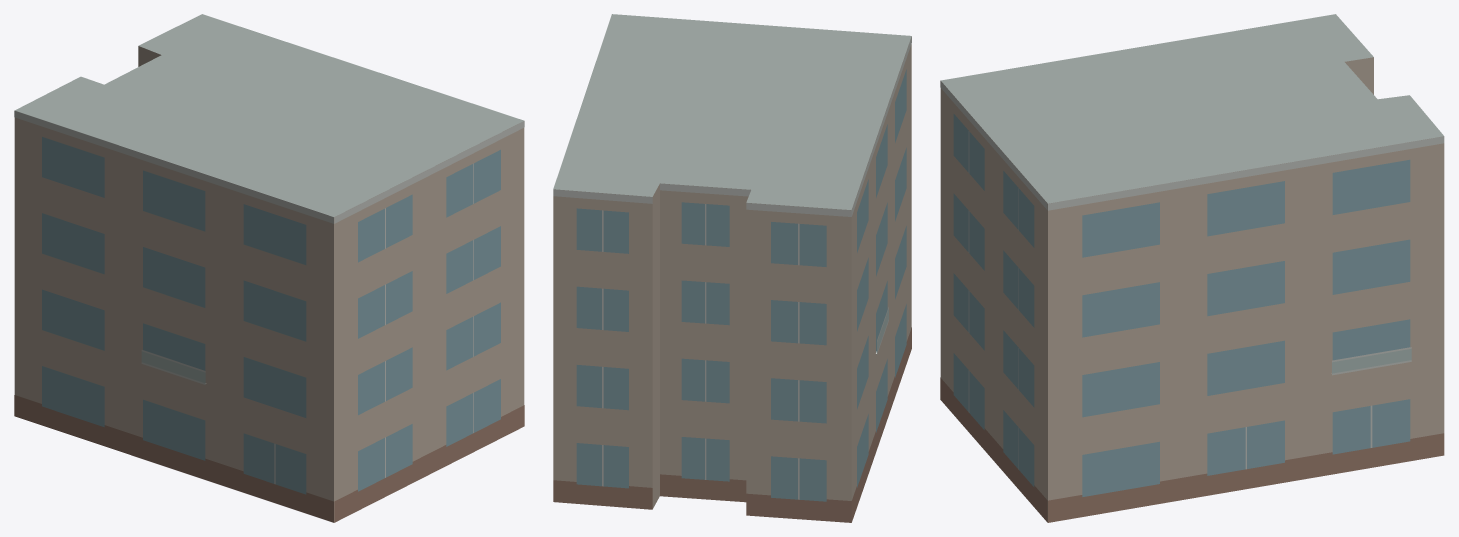
The model's file is survey-upis-32853125.glb.
The picture shows the model from 3 angles, left to right: view 1: azimuth 30°, elevation 25°; view 2: azimuth 150°, elevation 25°; view 3: azimuth 270°, elevation 25°; orthographic projection. The views are drawn at different scales.
Parts seen in each view (by area): view 1: survey-upis-32853125.tmp; view 2: survey-upis-32853125.tmp; view 3: survey-upis-32853125.tmp.
Part boxes in pixels (x1=…): survey-upis-32853125.tmp: x1=14, y1=14, x2=524, y2=522; survey-upis-32853125.tmp: x1=553, y1=14, x2=911, y2=522; survey-upis-32853125.tmp: x1=940, y1=14, x2=1444, y2=522.
Size of the model in its own units: 14.02 by 11 by 15.74.
